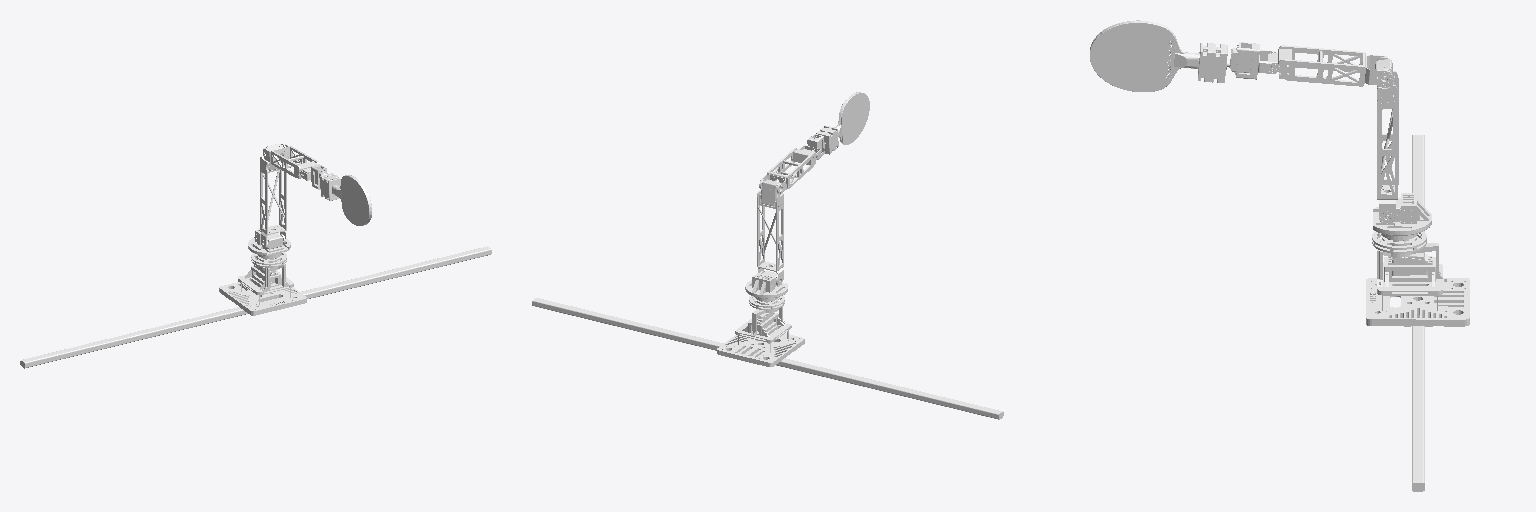
The robot description file, URDF, robot "virtual_arm":
<?xml version="1.0" encoding="utf-8"?>
<!-- This URDF was automatically created by SolidWorks to URDF Exporter! Originally created by [author] ([email redacted]) 
     Commit Version: 1.5.1-0-g916b5db  Build Version: 1.5.7152.31018
     For more information, please see http://wiki.ros.org/sw_urdf_exporter -->
<robot
  name="virtual_arm">
  <link name="world"/>

  <joint name="fixed" type="fixed">
    <parent link="world"/>
    <child link="base_link"/>
  </joint>

  <link
    name="base_link">
    <inertial>
      <origin
        xyz="1.0408E-17 6.9389E-18 8.3267E-17"
        rpy="0 0 0" />
      <mass
        value="0.67456" />
      <inertia
        ixx="4.6301E-05"
        ixy="9.9716E-21"
        ixz="-1.574E-19"
        iyy="0.11934"
        iyz="2.2747E-21"
        izz="0.11936" />
    </inertial>
    <visual>
      <origin
        xyz="0 0 0"
        rpy="0 0 0" />
      <geometry>
        <mesh
          filename="package://virtual_arm_description/meshes/base_link.STL" />
      </geometry>
      <material
        name="">
        <color
          rgba="1 1 1 1" />
      </material>
    </visual>
    <collision>
      <origin
        xyz="0 0 0"
        rpy="0 0 0" />
      <geometry>
        <mesh
          filename="package://virtual_arm_description/meshes/base_link.STL" />
      </geometry>
    </collision>
  </link>
  <link
    name="link1">
    <inertial>
      <origin
        xyz="0.023073 0.0076445 -0.054712"
        rpy="0 0 0" />
      <mass
        value="0.68444" />
      <inertia
        ixx="0.0018803"
        ixy="-3.6845E-07"
        ixz="-2.0077E-07"
        iyy="0.0015575"
        iyz="7.6862E-05"
        izz="0.0026543" />
    </inertial>
    <visual>
      <origin
        xyz="0 0 0"
        rpy="0 0 0" />
      <geometry>
        <mesh
          filename="package://virtual_arm_description/meshes/link1.STL" />
      </geometry>
      <material
        name="">
        <color
          rgba="1 1 1 1" />
      </material>
    </visual>
    <collision>
      <origin
        xyz="0 0 0"
        rpy="0 0 0" />
      <geometry>
        <mesh
          filename="package://virtual_arm_description/meshes/link1.STL" />
      </geometry>
    </collision>
  </link>
  <joint
    name="Joint1"
    type="prismatic">
    <origin
      xyz="0 0 0"
      rpy="3.14 0 0" />
    <parent
      link="base_link" />
    <child
      link="link1" />
    <axis
      xyz="1 0 0" />
    <limit
      lower="-0.75"
      upper="0.75"
      effort="100"
      velocity="3" />
  </joint>
  <link
    name="link2">
    <inertial>
      <origin
        xyz="-0.000914427661184533 -0.00309491771933679 -0.0570864508587369"
        rpy="0 0 0" />
      <mass
        value="0.30141699445104" />
      <inertia
        ixx="0.000213414517445558"
        ixy="3.73007261360871E-08"
        ixz="2.00667415336531E-07"
        iyy="0.000198178986421146"
        iyz="-1.34308430586079E-05"
        izz="0.000314966704185689" />
    </inertial>
    <visual>
      <origin
        xyz="0 0 0"
        rpy="0 0 0" />
      <geometry>
        <mesh
          filename="package://virtual_arm_description/meshes/link2.STL" />
      </geometry>
      <material
        name="">
        <color
          rgba="1 1 1 1" />
      </material>
    </visual>
    <collision>
      <origin
        xyz="0 0 0"
        rpy="0 0 0" />
      <geometry>
        <mesh
          filename="package://virtual_arm_description/meshes/link2.STL" />
      </geometry>
    </collision>
  </link>
  <joint
    name="Joint2"
    type="revolute">
    <origin
      xyz="0.023118 0.034422 -0.13325"
      rpy="0 0 0" />
    <parent
      link="link1" />
    <child
      link="link2" />
    <axis
      xyz="0 0 1" />
    <limit
      lower="-1.57"
      upper="1.57"
      effort="100"
      velocity="6.28" />
  </joint>
  <link
    name="link3">
    <inertial>
      <origin
        xyz="-0.0020696 0.0010887 -0.18127"
        rpy="0 0 0" />
      <mass
        value="0.13799" />
      <inertia
        ixx="0.00034661"
        ixy="-5.8466E-09"
        ixz="-1.4193E-08"
        iyy="0.00039279"
        iyz="-2.2492E-06"
        izz="7.9146E-05" />
    </inertial>
    <visual>
      <origin
        xyz="0 0 0"
        rpy="0 0 0" />
      <geometry>
        <mesh
          filename="package://virtual_arm_description/meshes/link3.STL" />
      </geometry>
      <material
        name="">
        <color
          rgba="1 1 1 1" />
      </material>
    </visual>
    <collision>
      <origin
        xyz="0 0 0"
        rpy="0 0 0" />
      <geometry>
        <mesh
          filename="package://virtual_arm_description/meshes/link3.STL" />
      </geometry>
    </collision>
  </link>
  <joint
    name="Joint3"
    type="revolute">
    <origin
      xyz="0.00075 0.022 -0.085"
      rpy="0 0 0" />
    <parent
      link="link2" />
    <child
      link="link3" />
    <axis
      xyz="1 0 0" />
    <limit
      lower="-0.5233"
      upper="1.50"
      effort="100"
      velocity="6.28" />
  </joint>
  <link
    name="link4">
    <inertial>
      <origin
        xyz="-0.0010239 -0.00027037 -0.12528"
        rpy="0 0 0" />
      <mass
        value="0.12194" />
      <inertia
        ixx="0.00027763"
        ixy="1.5871E-09"
        ixz="-6.7075E-09"
        iyy="0.00032452"
        iyz="-2.4078E-06"
        izz="7.6284E-05" />
    </inertial>
    <visual>
      <origin
        xyz="0 0 0"
        rpy="0 0 0" />
      <geometry>
        <mesh
          filename="package://virtual_arm_description/meshes/link4.STL" />
      </geometry>
      <material
        name="">
        <color
          rgba="1 1 1 1" />
      </material>
    </visual>
    <collision>
      <origin
        xyz="0 0 0"
        rpy="0 0 0" />
      <geometry>
        <mesh
          filename="package://virtual_arm_description/meshes/link4.STL" />
      </geometry>
    </collision>
  </link>
  <joint
    name="Joint4"
    type="revolute">
    <origin
      xyz="0.00065 0.0061428 -0.2801"
      rpy="0 0 0" />
    <parent
      link="link3" />
    <child
      link="link4" />
    <axis
      xyz="1 0 0" />
    <limit
      lower="0.5233"
      upper="2.442"
      effort="100"
      velocity="6.28" />
  </joint>
  <link
    name="link5">
    <inertial>
      <origin
        xyz="0.0013951 0.00073632 -0.050475"
        rpy="0 0 0" />
      <mass
        value="0.053343" />
      <inertia
        ixx="1.5937E-05"
        ixy="5.9612E-10"
        ixz="-6.4266E-09"
        iyy="9.0492E-06"
        iyz="6.6726E-08"
        izz="1.7385E-05" />
    </inertial>
    <visual>
      <origin
        xyz="0 0 0"
        rpy="0 0 0" />
      <geometry>
        <mesh
          filename="package://virtual_arm_description/meshes/link5.STL" />
      </geometry>
      <material
        name="">
        <color
          rgba="1 1 1 1" />
      </material>
    </visual>
    <collision>
      <origin
        xyz="0 0 0"
        rpy="0 0 0" />
      <geometry>
        <mesh
          filename="package://virtual_arm_description/meshes/link5.STL" />
      </geometry>
    </collision>
  </link>
  <joint
    name="Joint5"
    type="revolute">
    <origin
      xyz="-0.0011 0.0018045 -0.20327"
      rpy="0 0 0" />
    <parent
      link="link4" />
    <child
      link="link5" />
    <axis
      xyz="1 0 0" />
    <limit
      lower="-1.2613"
      upper="1.16937"
      effort="100"
      velocity="6.28" />
  </joint>
  <link
    name="link6">
    <inertial>
      <origin
        xyz="-0.0013137 -0.00040015 -0.10964"
        rpy="0 0 0" />
      <mass
        value="0.3139" />
      <inertia
        ixx="0.0011379"
        ixy="-5.9635E-08"
        ixz="-2.8912E-06"
        iyy="0.00088015"
        iyz="-5.3171E-09"
        izz="0.00027448" />
    </inertial>
    <visual>
      <origin
        xyz="0 0 0"
        rpy="0 0 0" />
      <geometry>
        <mesh
          filename="package://virtual_arm_description/meshes/link6.STL" />
      </geometry>
      <material
        name="">
        <color
          rgba="1 1 1 1" />
      </material>
    </visual>
    <collision>
      <origin
        xyz="0 0 0"
        rpy="0 0 0" />
      <geometry>
        <mesh
          filename="package://virtual_arm_description/meshes/link6.STL" />
      </geometry>
    </collision>
  </link>
  <joint
    name="Joint6"
    type="revolute">
    <origin
      xyz="0.0015 0.01 -0.085"
      rpy="0 0 0" />
    <parent
      link="link5" />
    <child
      link="link6" />
    <axis
      xyz="0 0 1" />
    <limit
      lower="-1.57"
      upper="1.57"
      effort="100"
      velocity="6.28" />
  </joint>

  <transmission name="tran11">
    <type>transmission_interface/SimpleTransmission</type>
    <joint name="Joint1">
      <hardwareInterface>hardware_interface/PositionJointInterface</hardwareInterface>
    </joint>
    <actuator name="motor11">
      <hardwareInterface>hardware_interface/PositionJointInterface</hardwareInterface>
      <mechanicalReduction>1</mechanicalReduction>
    </actuator>
  </transmission>

  <transmission name="tran22">
    <type>transmission_interface/SimpleTransmission</type>
    <joint name="Joint2">
      <hardwareInterface>hardware_interface/PositionJointInterface</hardwareInterface>
    </joint>
    <actuator name="motor22">
      <hardwareInterface>hardware_interface/PositionJointInterface</hardwareInterface>
      <mechanicalReduction>1</mechanicalReduction>
    </actuator>
  </transmission>

  <transmission name="tran33">
    <type>transmission_interface/SimpleTransmission</type>
    <joint name="Joint3">
      <hardwareInterface>hardware_interface/PositionJointInterface</hardwareInterface>
    </joint>
    <actuator name="motor33">
      <hardwareInterface>hardware_interface/PositionJointInterface</hardwareInterface>
      <mechanicalReduction>1</mechanicalReduction>
    </actuator>
  </transmission>

  <transmission name="tran44">
    <type>transmission_interface/SimpleTransmission</type>
    <joint name="Joint4">
      <hardwareInterface>hardware_interface/PositionJointInterface</hardwareInterface>
    </joint>
    <actuator name="motor44">
      <hardwareInterface>hardware_interface/PositionJointInterface</hardwareInterface>
      <mechanicalReduction>1</mechanicalReduction>
    </actuator>
  </transmission>

  <transmission name="tran55">
    <type>transmission_interface/SimpleTransmission</type>
    <joint name="Joint5">
      <hardwareInterface>hardware_interface/PositionJointInterface</hardwareInterface>
    </joint>
    <actuator name="motor55">
      <hardwareInterface>hardware_interface/PositionJointInterface</hardwareInterface>
      <mechanicalReduction>1</mechanicalReduction>
    </actuator>
  </transmission>

  <transmission name="tran66">
    <type>transmission_interface/SimpleTransmission</type>
    <joint name="Joint6">
      <hardwareInterface>hardware_interface/PositionJointInterface</hardwareInterface>
    </joint>
    <actuator name="motor66">
      <hardwareInterface>hardware_interface/PositionJointInterface</hardwareInterface>
      <mechanicalReduction>1</mechanicalReduction>
    </actuator>
  </transmission>
  <gazebo>
    <plugin name="gazebo_ros_control" filename="libgazebo_ros_control.so">
      <robotNamespace>/virtual_arm</robotNamespace>
      <robotSimType>gazebo_ros_control/DefaultRobotHWSim</robotSimType> 
    </plugin>
  </gazebo>
  <gazebo reference="link6">
    <collision>
      <surface>
        <contact>
          <ode>
	    <max_vel>20</max_vel>
	    <min_depth>0.0001</min_depth>
          </ode>
	</contact>
	<friction>
	  <ode>
	    <mu>0.9</mu>
	    <mu2>0.4</mu2>
	  </ode>
        </friction>
        <bounce>
          <restitution_coefficient>0.9</restitution_coefficient>
          <threshold>0.001</threshold>
        </bounce>
      </surface>
    </collision>
  </gazebo>
</robot>

--- What the picture shows (computed from the rendered views, not written in the file) ---
The picture shows the robot from 3 angles, left to right: view 1: azimuth 30°, elevation 25°; view 2: azimuth 150°, elevation 25°; view 3: azimuth 270°, elevation 25°; orthographic projection.
Model virtual_arm with 8 links and 7 joints (5 revolute, 1 prismatic, 1 fixed), rooted at world, posed joints at zero except 1 at the middle of their limits (Joint4 = 1.48).
Links seen in each view (by area): view 1: base_link, link1, link6, link3, link2, link4; view 2: base_link, link1, link3, link6, link2, link4; view 3: link1, link6, link4, base_link, link3, link2, link5.
Link boxes in pixels (x1=…): base_link: x1=20, y1=246, x2=491, y2=368; link1: x1=219, y1=257, x2=306, y2=315; link6: x1=320, y1=173, x2=371, y2=225; link3: x1=260, y1=144, x2=286, y2=248; link2: x1=248, y1=226, x2=290, y2=267; link4: x1=263, y1=144, x2=318, y2=178; base_link: x1=532, y1=298, x2=1003, y2=419; link1: x1=717, y1=300, x2=804, y2=366; link3: x1=757, y1=179, x2=783, y2=285; link6: x1=816, y1=92, x2=869, y2=154; link2: x1=745, y1=271, x2=787, y2=309; link4: x1=759, y1=148, x2=815, y2=193; link1: x1=1366, y1=237, x2=1469, y2=326; link6: x1=1090, y1=20, x2=1227, y2=91; link4: x1=1268, y1=45, x2=1392, y2=86; base_link: x1=1412, y1=135, x2=1424, y2=491; link3: x1=1375, y1=59, x2=1398, y2=224; link2: x1=1372, y1=193, x2=1431, y2=253; link5: x1=1226, y1=42, x2=1278, y2=79.
Size in the robot's own frame: 1.5 by 0.6942 by 0.6063 metres.
7 mesh visuals loaded from 7 distinct referenced files (7 binary STL).
